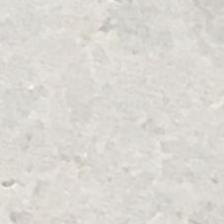Non_Crack: (34, 33, 188, 196)
